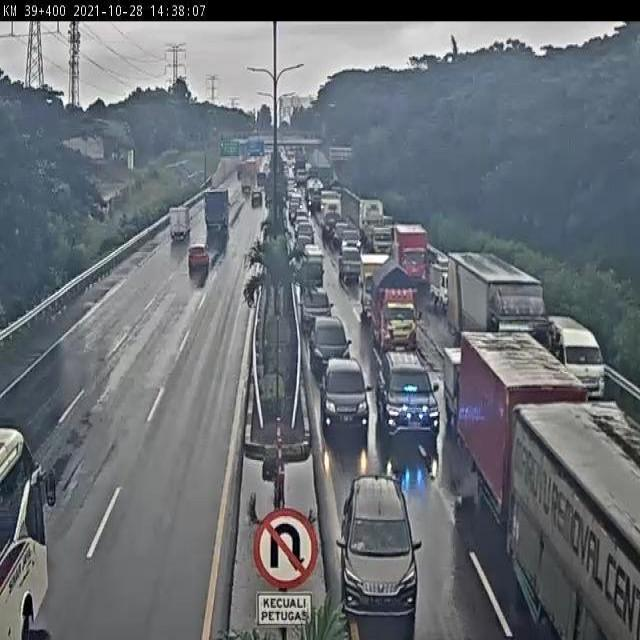car: (338, 479, 420, 612)
truck-l-: (450, 252, 549, 384)
truck-m-: (458, 336, 589, 527), (370, 263, 419, 353)
